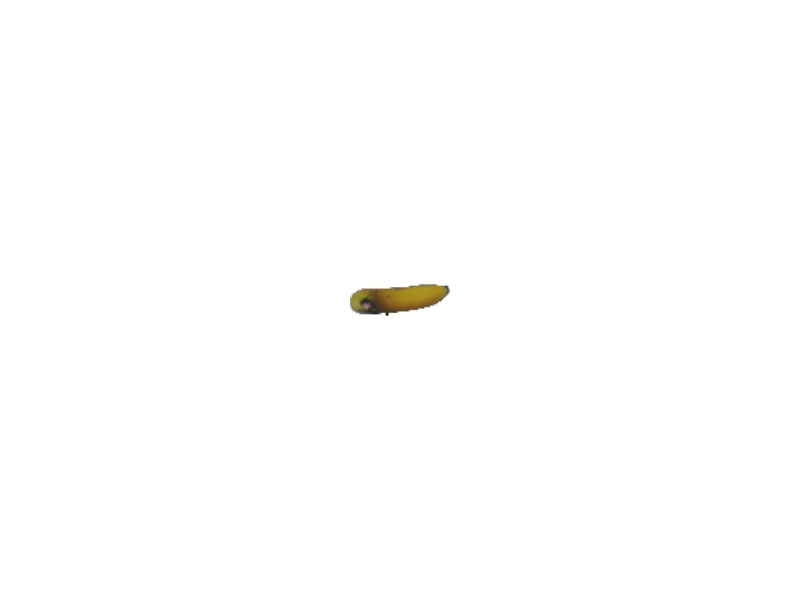banana: (348, 281, 452, 317)
